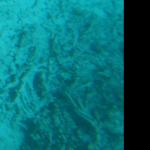dead: (1, 2, 122, 148)
